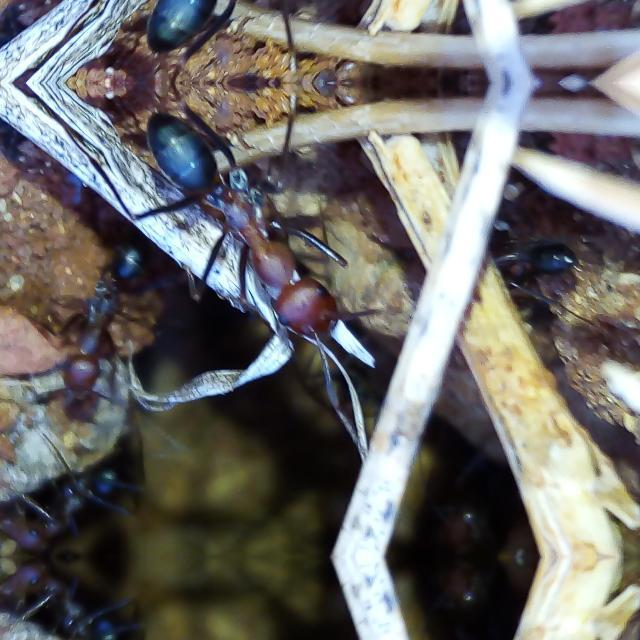Cataglyphis: (108, 105, 382, 368), (13, 223, 178, 415), (0, 447, 152, 555), (106, 0, 382, 58), (0, 556, 152, 640), (461, 221, 593, 311)
